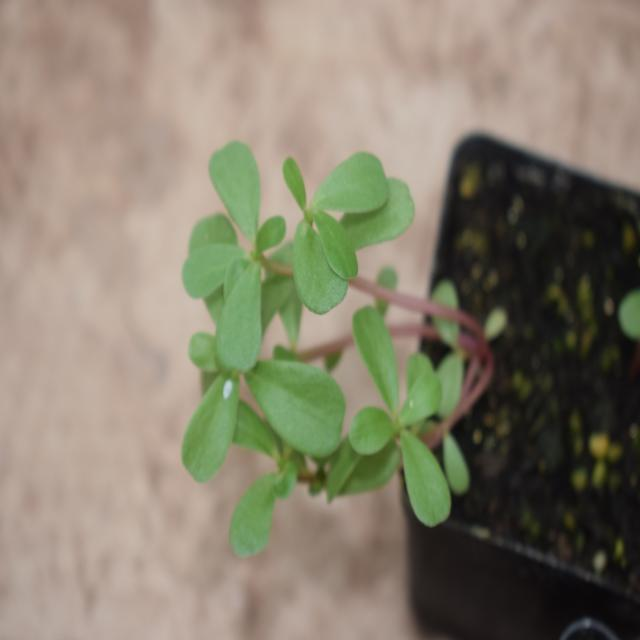purslane: (142, 142, 494, 534)
